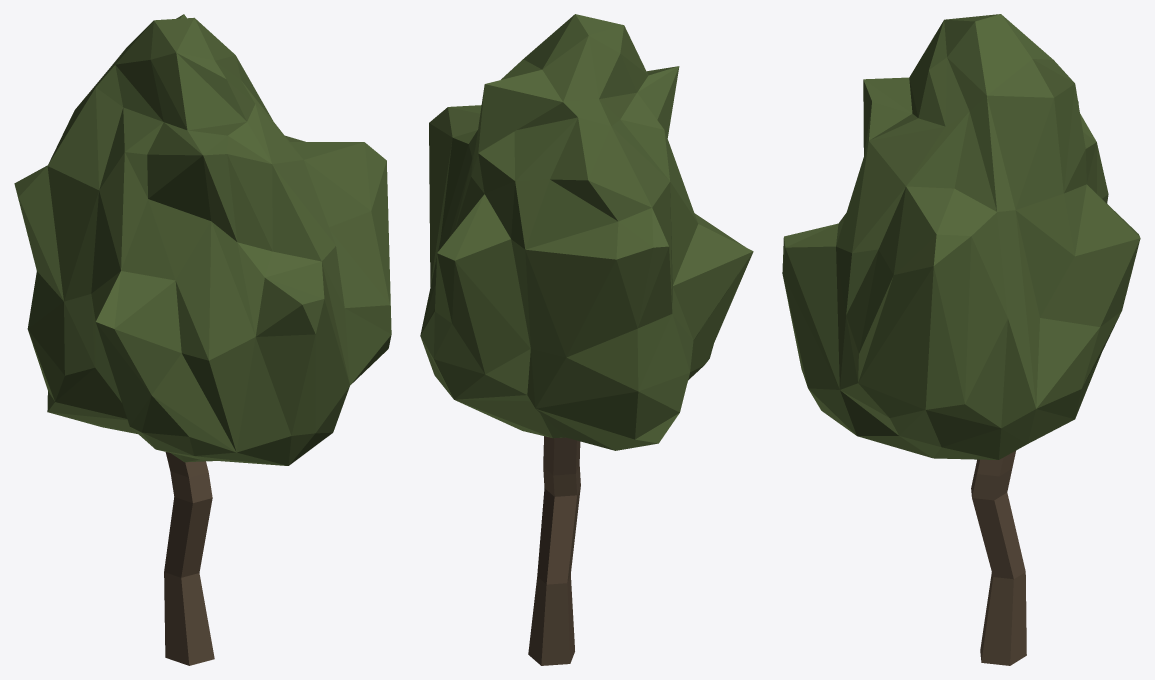
The model's file is tree_073.fbx.
The picture shows the model from 3 angles, left to right: view 1: azimuth 30°, elevation 25°; view 2: azimuth 150°, elevation 25°; view 3: azimuth 270°, elevation 25°; orthographic projection. The views are drawn at different scales.
Visible parts, largest first — view 1: tree_073; view 2: tree_073; view 3: tree_073.
Part boxes in pixels (x1,y1,x2,y2): tree_073: (14,14,391,665); tree_073: (420,14,753,665); tree_073: (782,14,1140,665).
Bounding box in the file's own units: 0.7995 × 1.59 × 0.8198.
Materials: 1 (1 with a texture image).
